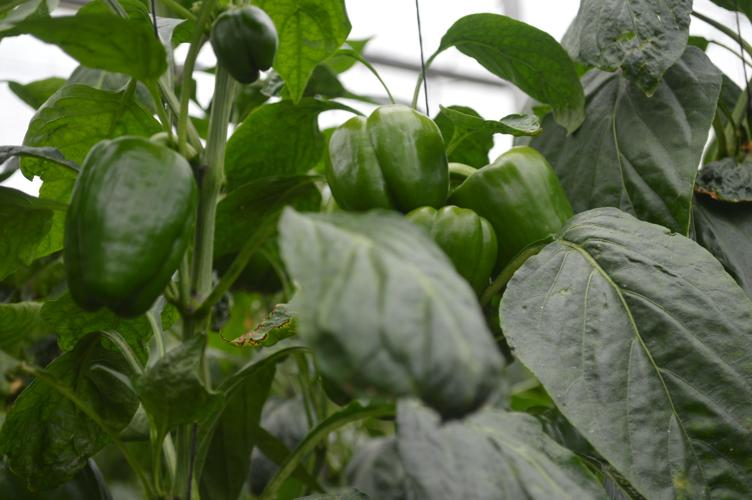BellPepper: (63, 143, 205, 309), (326, 104, 457, 224), (448, 153, 573, 257), (384, 205, 511, 290), (209, 6, 287, 86)
